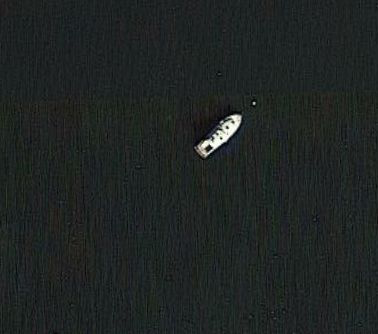boat: (190, 110, 245, 160)
